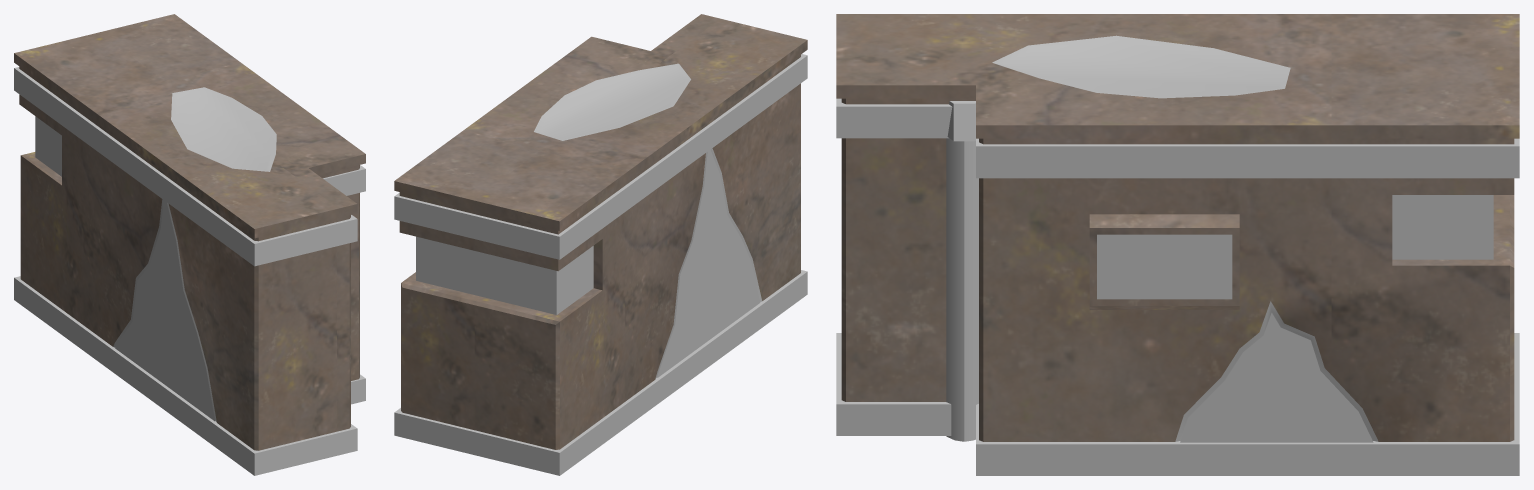
Rendered from ghiway_6b.fbx.
3 views of the same model, side by side, from view 1: azimuth 30°, elevation 25°; view 2: azimuth 150°, elevation 25°; view 3: azimuth 270°, elevation 25° (orthographic). The views are drawn at different scales.
Parts seen in each view (by area): view 1: ghiway_6b; view 2: ghiway_6b; view 3: ghiway_6b.
Boxes of the visible parts, box(x1,y1,x2,y2) form: ghiway_6b: box(14, 14, 365, 475); ghiway_6b: box(394, 14, 807, 475); ghiway_6b: box(836, 14, 1519, 475).
Size of the model in its own units: 640 by 881 by 1543.
